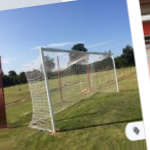goals: (20, 46, 122, 134)
